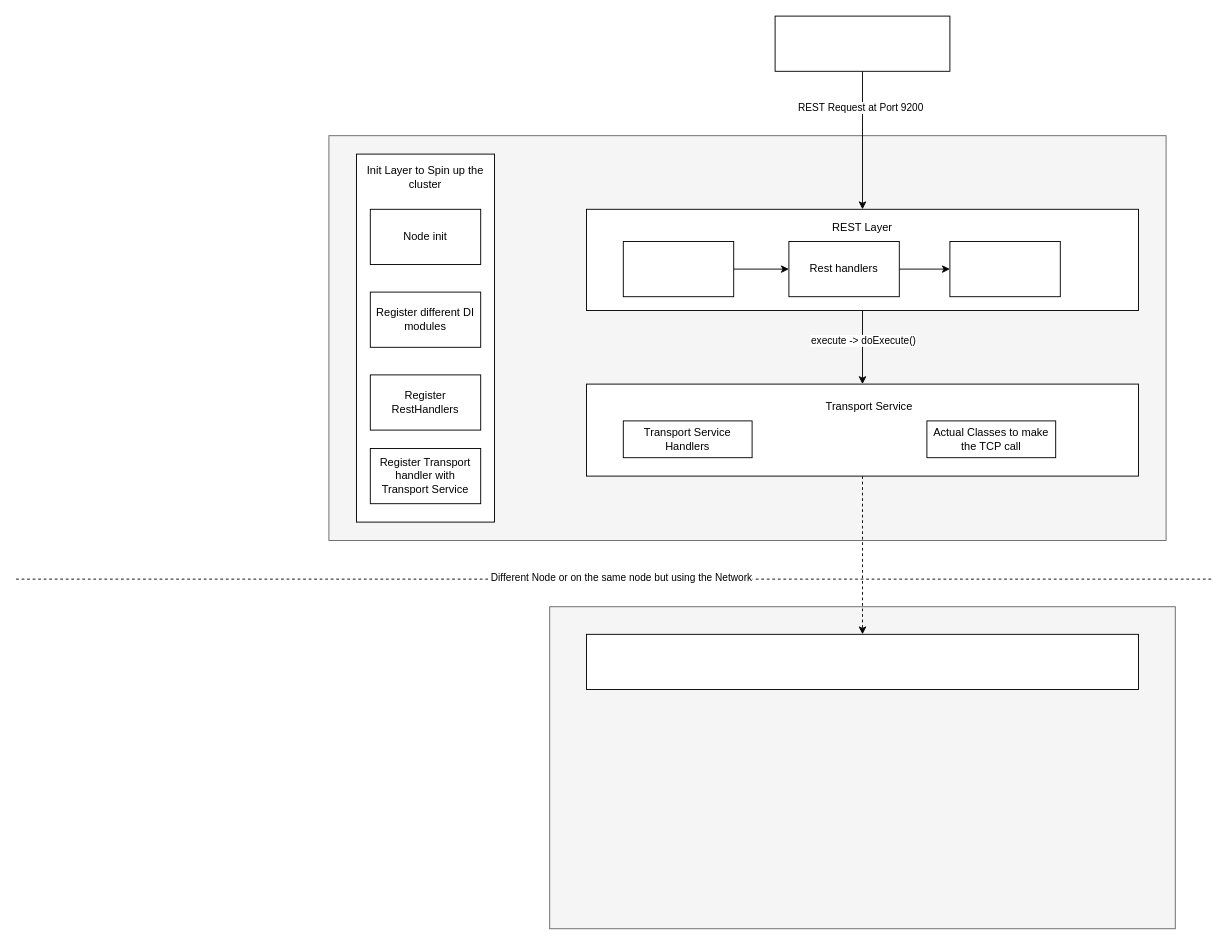
Image size: 1229x945. Some labels were removed from this diagram. The shapes that lost their labels are listed below. From the top down, each one's box as (x1, y1, x2, y2) in pixels, then its label:
(774, 15, 950, 71): Client
(622, 241, 734, 297): Rest Controller
(949, 241, 1060, 297): Find Right Action
(586, 633, 1138, 690): Work to be done (TBD)
